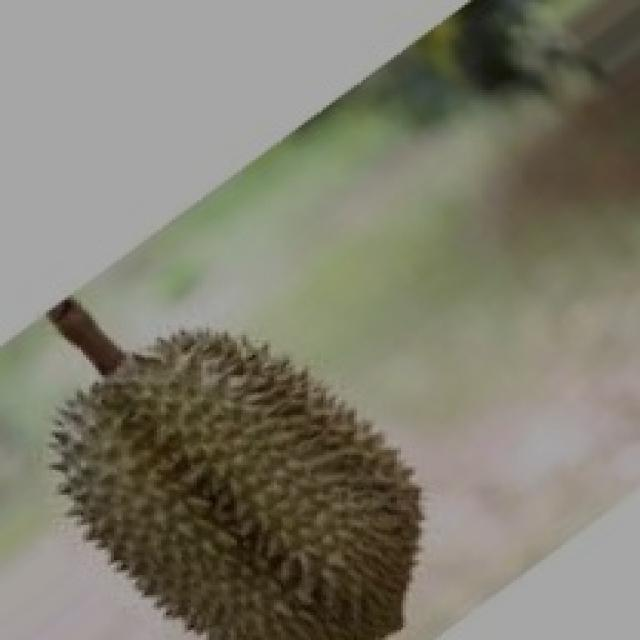fruit: (9, 282, 437, 640)
